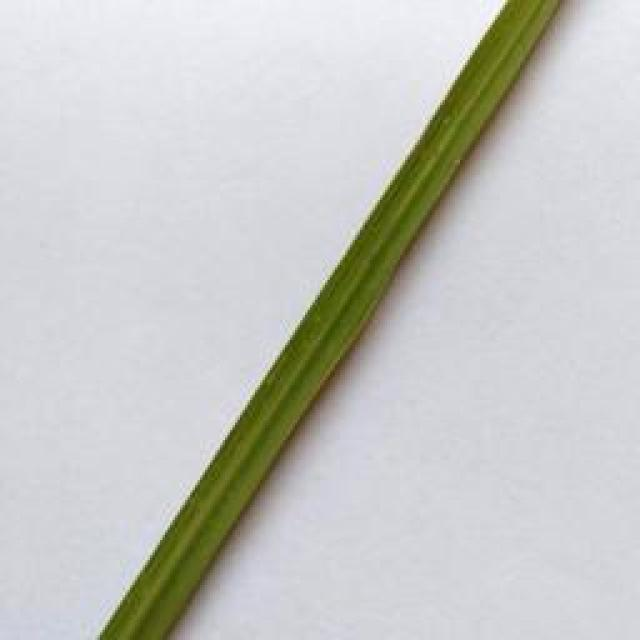Healthy-Plant: (102, 0, 561, 640)
